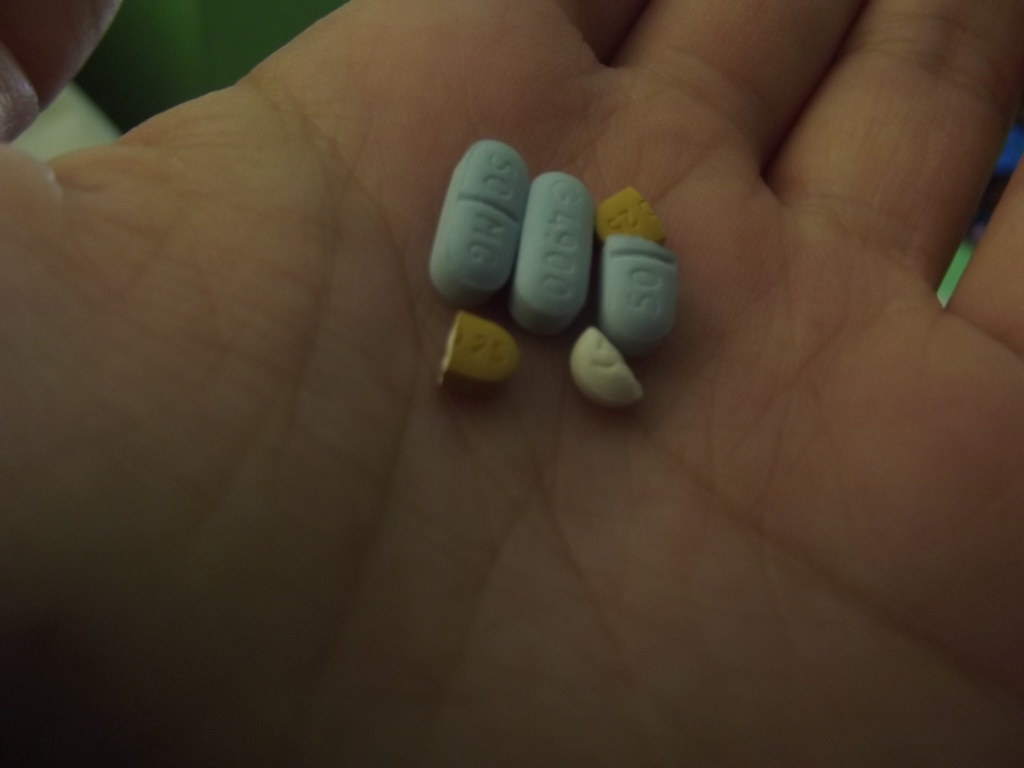pills: (428, 138, 532, 297), (511, 164, 603, 336)
